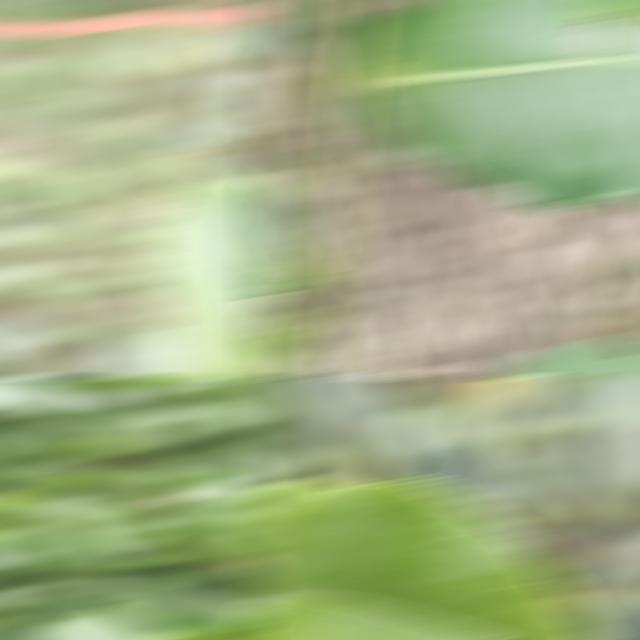Leaf: (357, 2, 640, 210), (252, 480, 609, 638), (142, 157, 272, 376), (252, 160, 325, 293), (291, 378, 391, 446), (314, 2, 363, 131), (531, 378, 640, 433), (400, 448, 505, 505), (502, 337, 640, 376), (98, 329, 191, 376), (252, 2, 301, 69), (337, 94, 374, 168)
